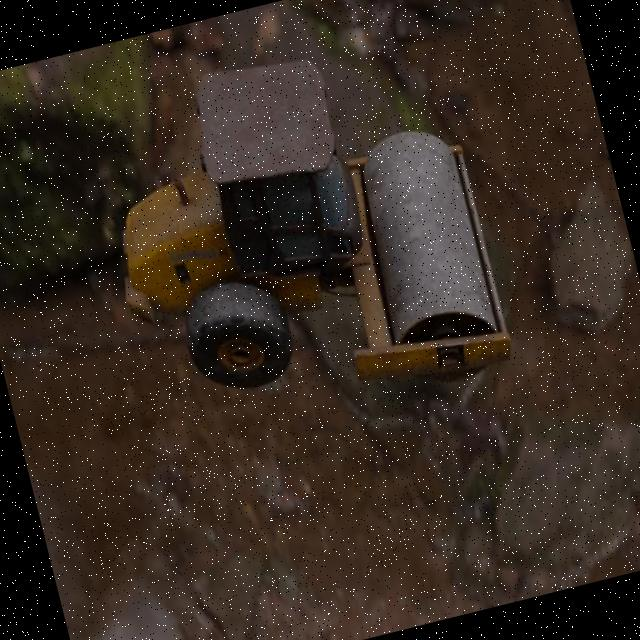Roller: (76, 16, 517, 454)
